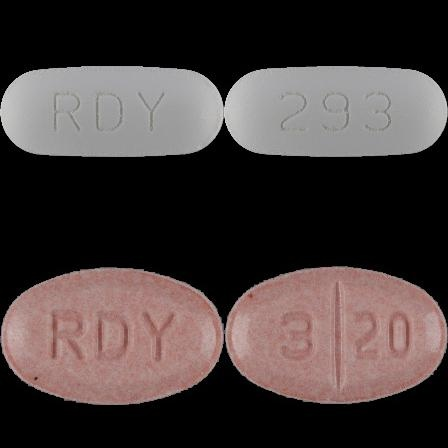55111-293: (0, 0, 224, 224)
